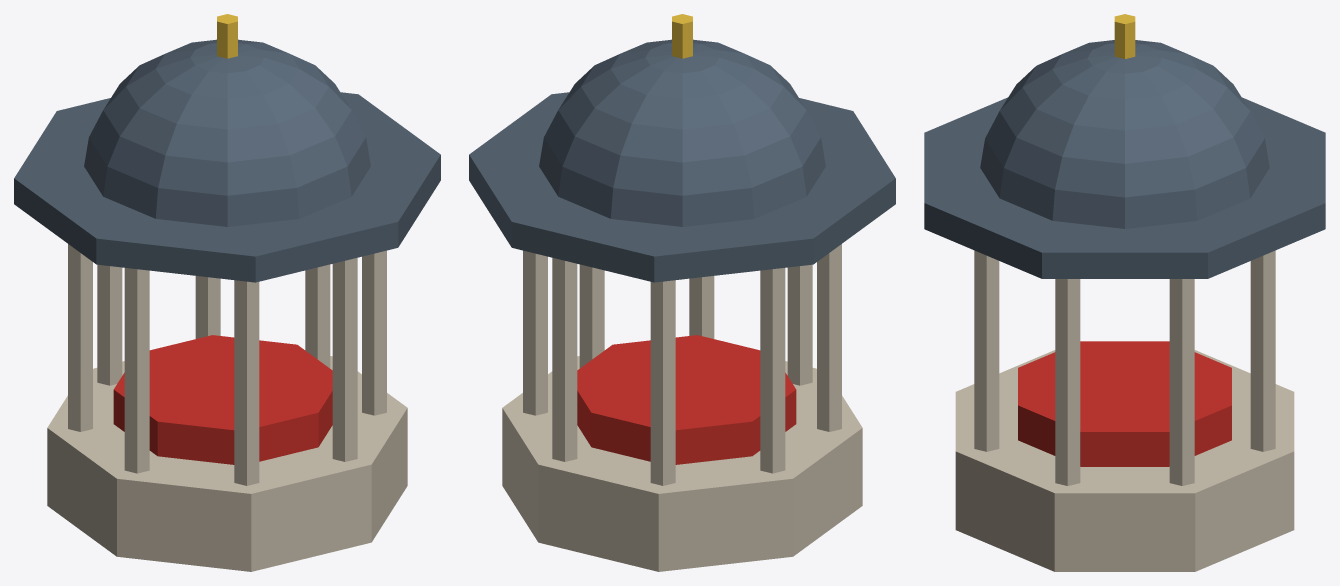
File: kiosk.glb
3 renders of one model, left to right at view 1: azimuth 30°, elevation 25°; view 2: azimuth 150°, elevation 25°; view 3: azimuth 270°, elevation 25°, orthographic.
Visible parts, largest first — view 1: kiosk; view 2: kiosk; view 3: kiosk.
Boxes of the visible parts, bbox=[...] form: kiosk: bbox=[14, 14, 440, 571]; kiosk: bbox=[469, 14, 895, 571]; kiosk: bbox=[924, 14, 1325, 571].
Bounding box in the file's own units: 0.8315 × 1.1 × 0.8315.
